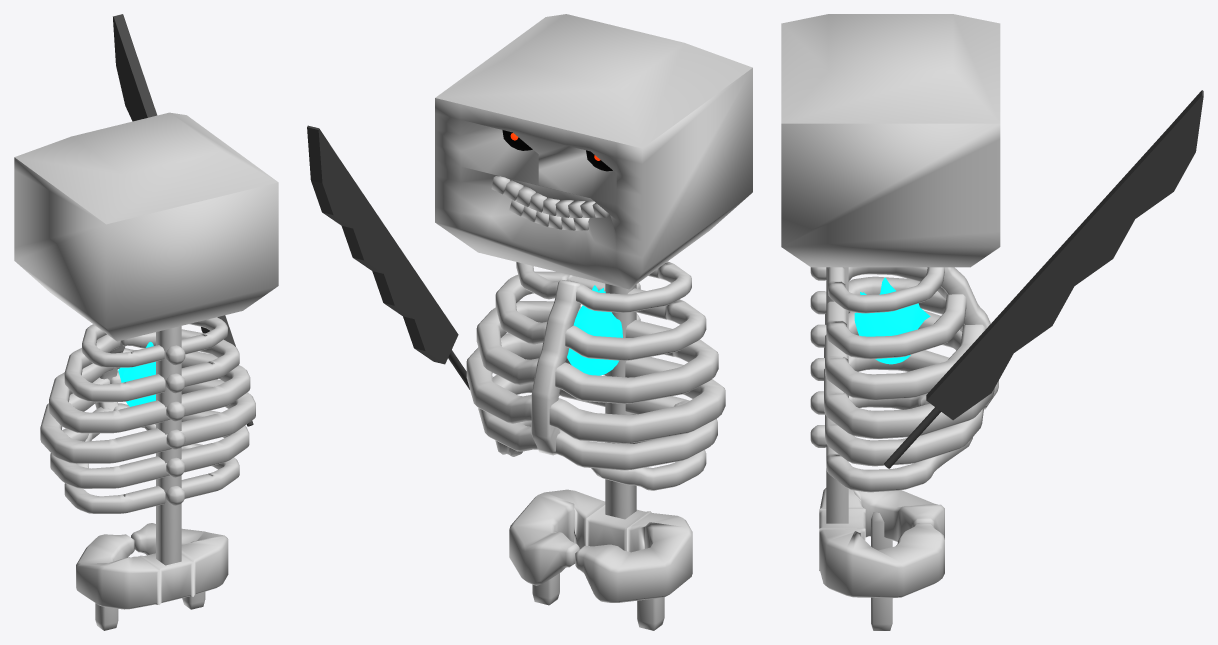
File: szkieletor.glb
The picture shows the model from 3 angles, left to right: view 1: azimuth 30°, elevation 25°; view 2: azimuth 150°, elevation 25°; view 3: azimuth 270°, elevation 25°; orthographic projection. The views are drawn at different scales.
Visible parts, largest first — view 1: Cube.002, Cube.011, Cube.004, Cube.003, Cylinder, Sphere, Cube.005; view 2: Cube.002, Cube.011, Cube.004, Cylinder, Cube.007, Cube.003, Cube.008, Sphere, Cube.009, Cube.005, Cube.006; view 3: Cube.002, Cube.011, Cylinder, Cube.004, Sphere, Cube.003, Cube.007, Cube.006.
Part boxes in pixels (x1,y1,x2,y2): Cube.002: [14, 112, 278, 341]; Cube.011: [40, 317, 255, 513]; Cube.004: [76, 523, 228, 609]; Cube.003: [156, 326, 181, 565]; Cylinder: [113, 14, 253, 426]; Sphere: [118, 342, 155, 406]; Cube.005: [95, 603, 118, 630]; Cube.002: [435, 14, 752, 289]; Cube.011: [466, 261, 725, 490]; Cube.004: [509, 489, 692, 602]; Cylinder: [307, 125, 469, 389]; Cube.007: [531, 280, 582, 455]; Cube.003: [605, 283, 636, 519]; Cube.008: [491, 176, 609, 217]; Sphere: [567, 285, 622, 375]; Cube.009: [509, 199, 589, 230]; Cube.005: [637, 597, 664, 630]; Cube.006: [532, 531, 559, 605]; Cube.002: [781, 14, 1000, 267]; Cube.011: [810, 267, 994, 492]; Cylinder: [884, 90, 1203, 468]; Cube.004: [819, 488, 944, 598]; Sphere: [854, 277, 930, 364]; Cube.003: [826, 267, 848, 523]; Cube.007: [941, 267, 998, 409]; Cube.006: [871, 597, 892, 630].
Size of the model in its own units: 1.5 by 3.33 by 2.24.
